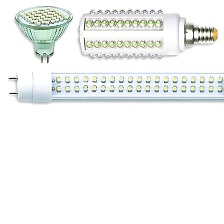light_bulb: (6, 66, 223, 107), (75, 6, 221, 64), (14, 3, 74, 64)
